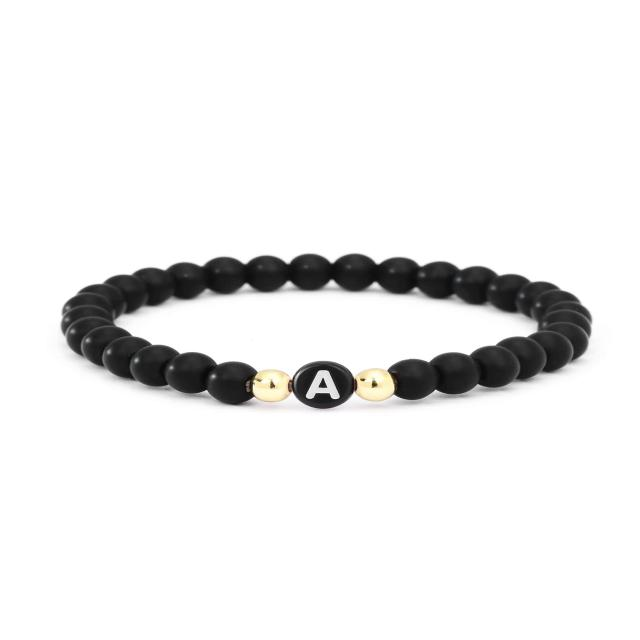bracelet: (0, 184, 640, 438)
